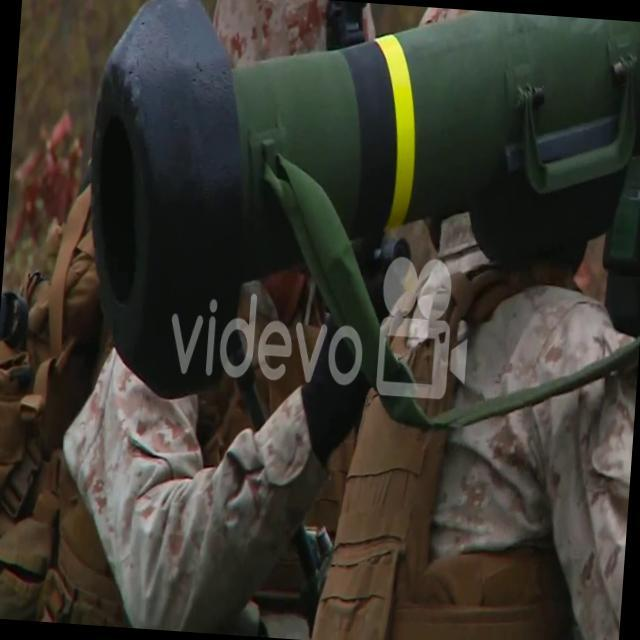rocket: (76, 0, 640, 419)
